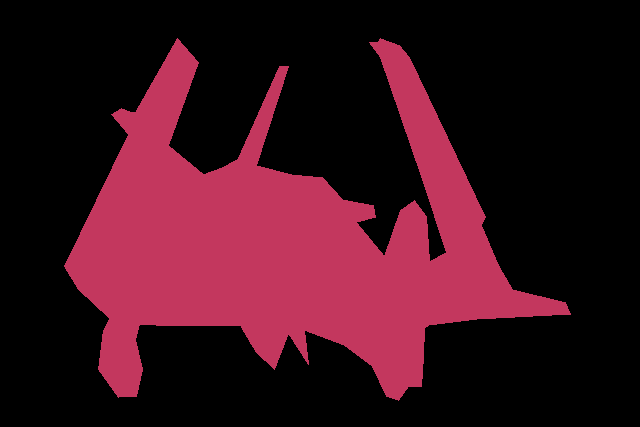Airplane: (64, 38, 570, 401)
